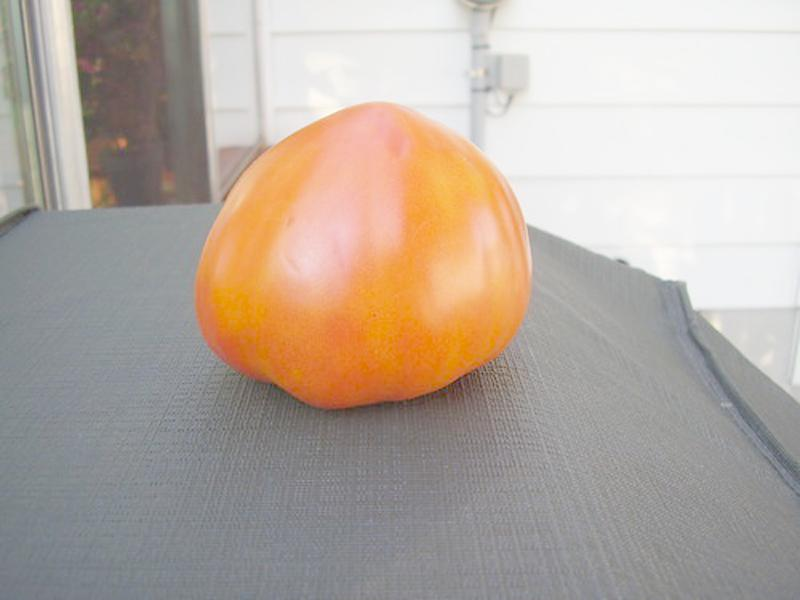Tomato: (194, 99, 531, 405)
